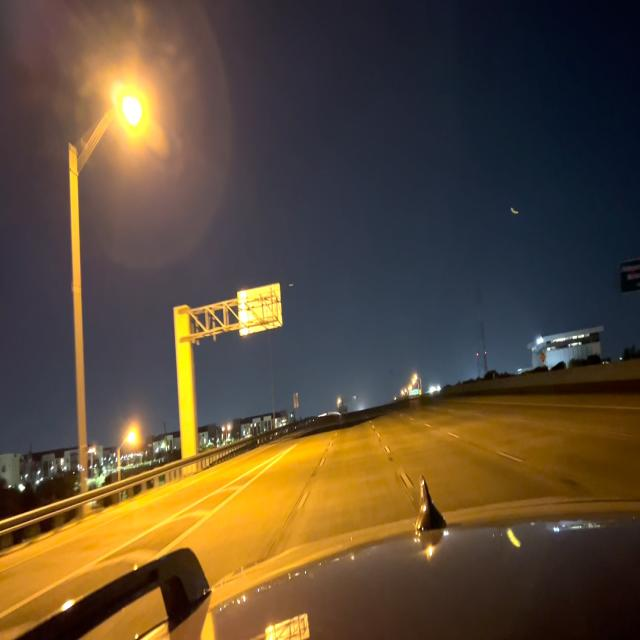back-of-sign: (238, 278, 285, 343)
